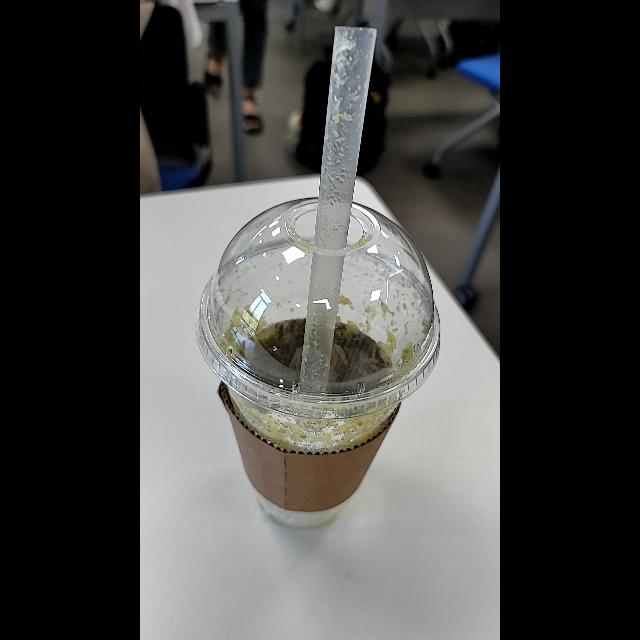plastic_cup: (190, 195, 444, 530)
plastic_cup_lid: (188, 195, 448, 422)
straw: (292, 27, 378, 411)
